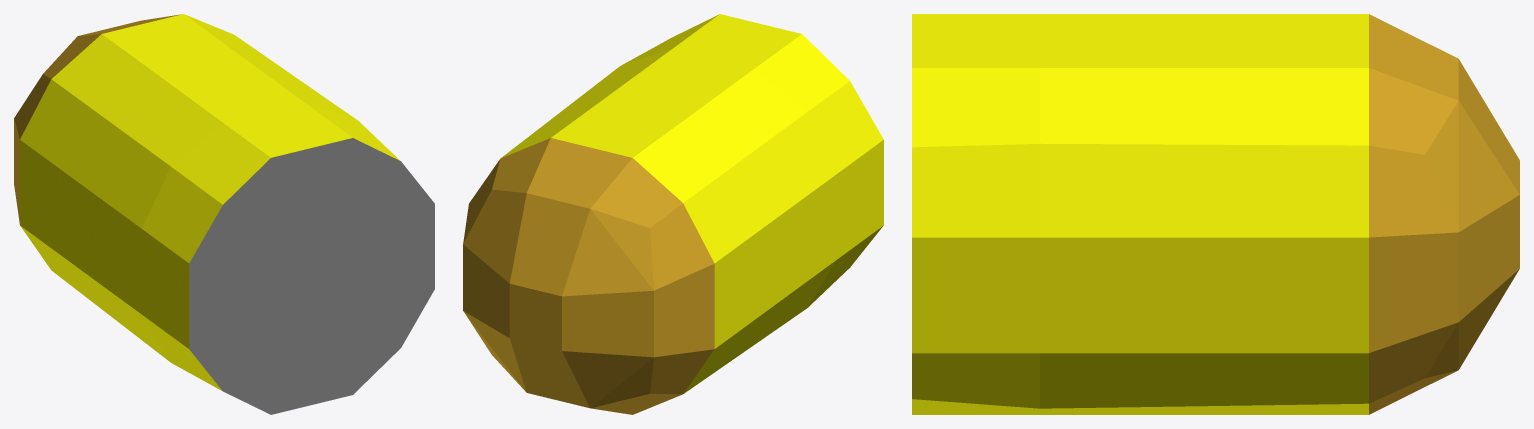
Rendered from Grenade1.fbx.
3 renders of one model, left to right at view 1: azimuth 30°, elevation 25°; view 2: azimuth 150°, elevation 25°; view 3: azimuth 270°, elevation 25°, orthographic. The views are drawn at different scales.
Visible parts, largest first — view 1: Cube; view 2: Cube; view 3: Cube.
Part boxes in pixels (left/top/right/bottom): Cube: left=14, top=14, right=434, bottom=414; Cube: left=463, top=14, right=883, bottom=414; Cube: left=912, top=14, right=1519, bottom=414.
Size of the model in its own units: 18.63 by 18.63 by 29.58.
